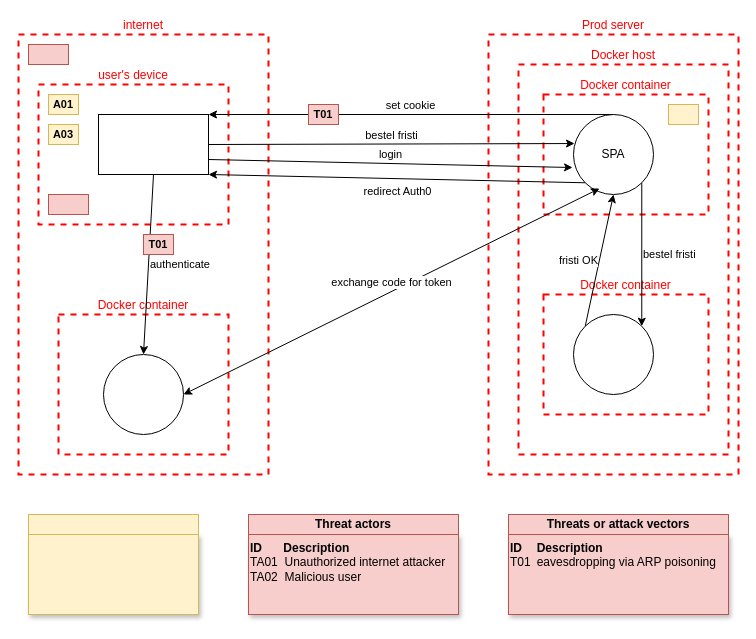
Image size: 756x639. Some labels were removed from this diagram. Here are the shapes that lost their labels. From the top down, the centre of each, then its label:
At [48,54]: "TA01".
At [683,114]: "A02".
At [153,144]: "USER --------------- BROWSER".
At [68,204]: "TA02".
At [613,354]: "API".
At [143,394]: "Auth service".
At [113,524]: "Assets".
At [114,576]: "ID Description A01 cookie A02 Access token A03 user credentials".
